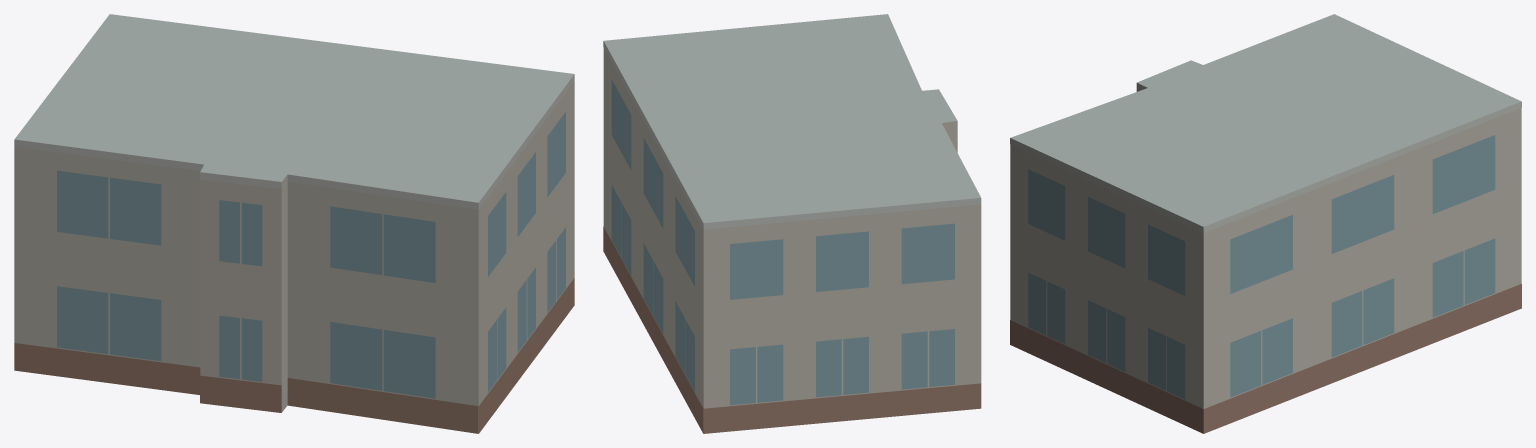
The model's file is survey-upis-32959898.glb.
3 views of the same model, side by side, from view 1: azimuth 30°, elevation 25°; view 2: azimuth 150°, elevation 25°; view 3: azimuth 270°, elevation 25° (orthographic). The views are drawn at different scales.
Parts seen in each view (by area): view 1: survey-upis-32959898.tmp; view 2: survey-upis-32959898.tmp; view 3: survey-upis-32959898.tmp.
Part boxes in pixels (x1,y1,x2,y2): survey-upis-32959898.tmp: (14, 14, 574, 433); survey-upis-32959898.tmp: (603, 14, 981, 433); survey-upis-32959898.tmp: (1010, 14, 1521, 433).
Bounding box in the file's own units: 17.55 × 7.95 × 17.82.
